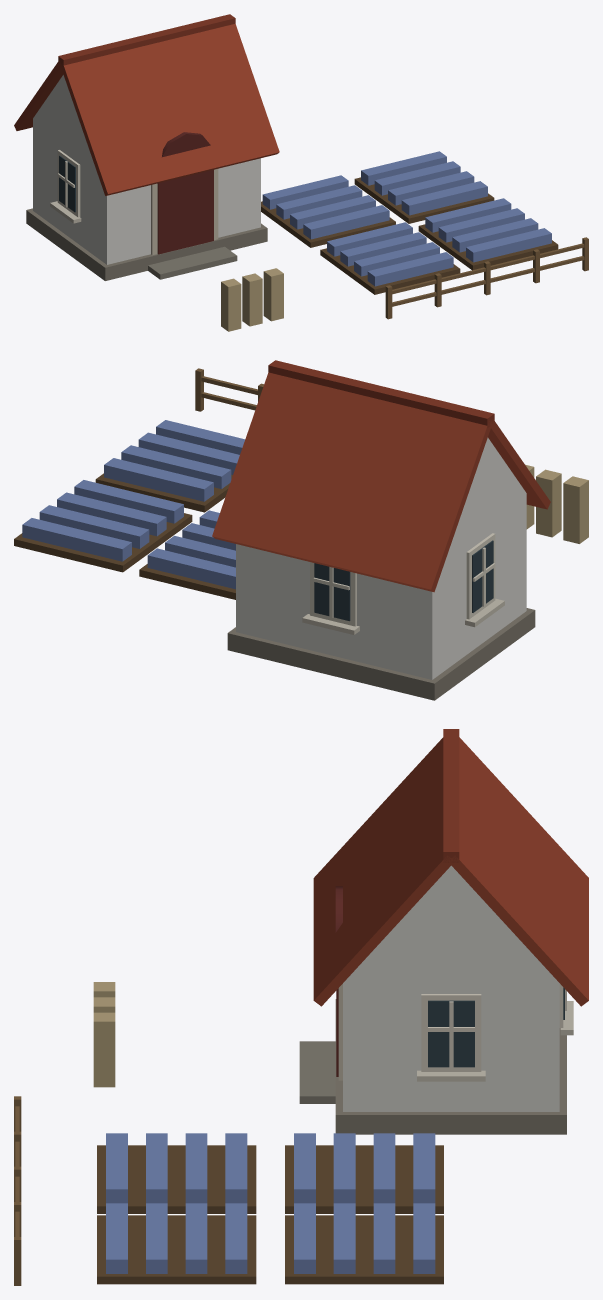
The model's file is procedural_flax_farm@4.glb.
3 renders of one model, top to bottom at view 1: azimuth 30°, elevation 25°; view 2: azimuth 150°, elevation 25°; view 3: azimuth 270°, elevation 25°, orthographic. The views are drawn at different scales.
Visible parts, largest first — view 1: part_0; view 2: part_0; view 3: part_0.
Part boxes in pixels (bbox=[...]): part_0: bbox=[14, 14, 588, 331]; part_0: bbox=[14, 360, 588, 700]; part_0: bbox=[14, 729, 588, 1285].
Bounding box in the file's own units: 8.86 × 4.37 × 7.95.
